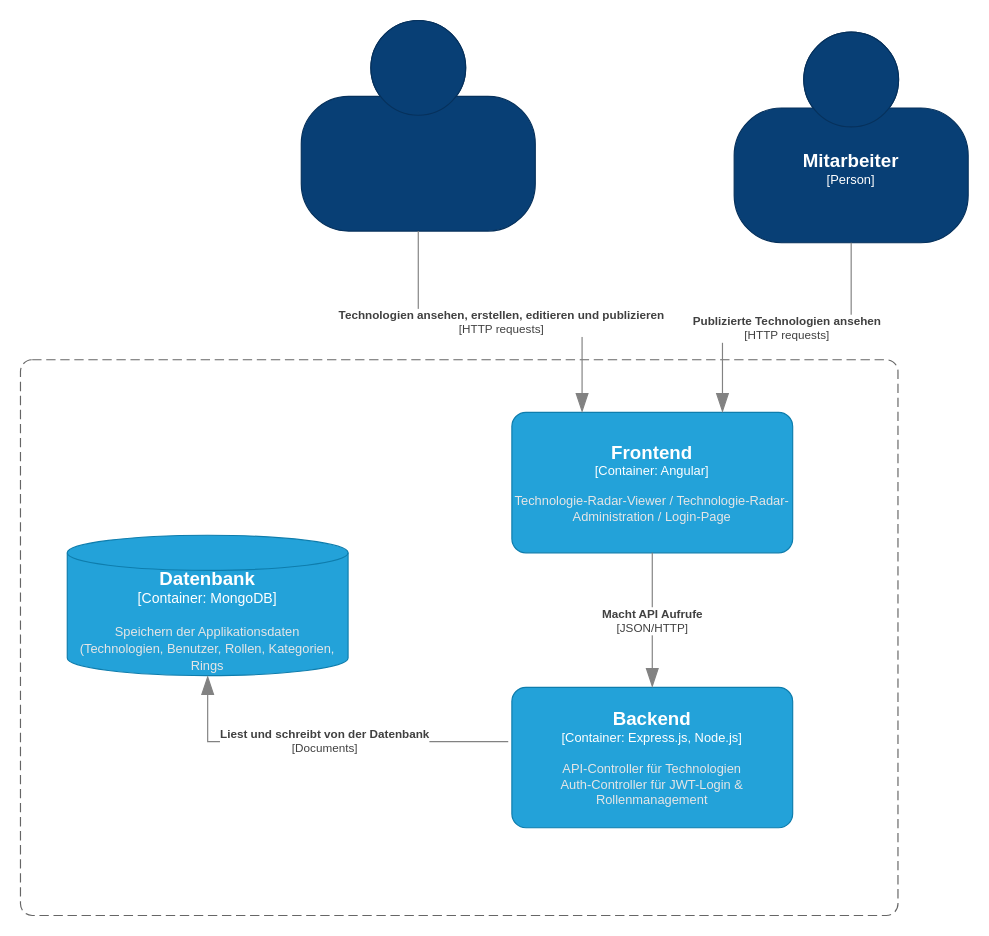
Image size: 989x936. Some labels were removed from this diagram. Each missing label, with the box of its shape:
CTO oder Tech-Lead [Person]: (300, 19, 535, 231)
Technologie-Radar [Software System]: (19, 359, 898, 916)
